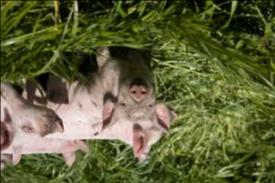Non_Gorille: (0, 36, 174, 176)
